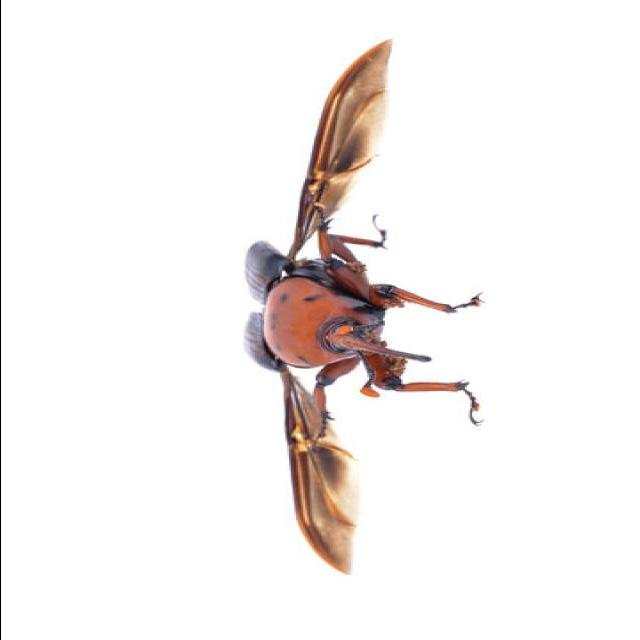Red-palm-weevil: (240, 70, 440, 590)
